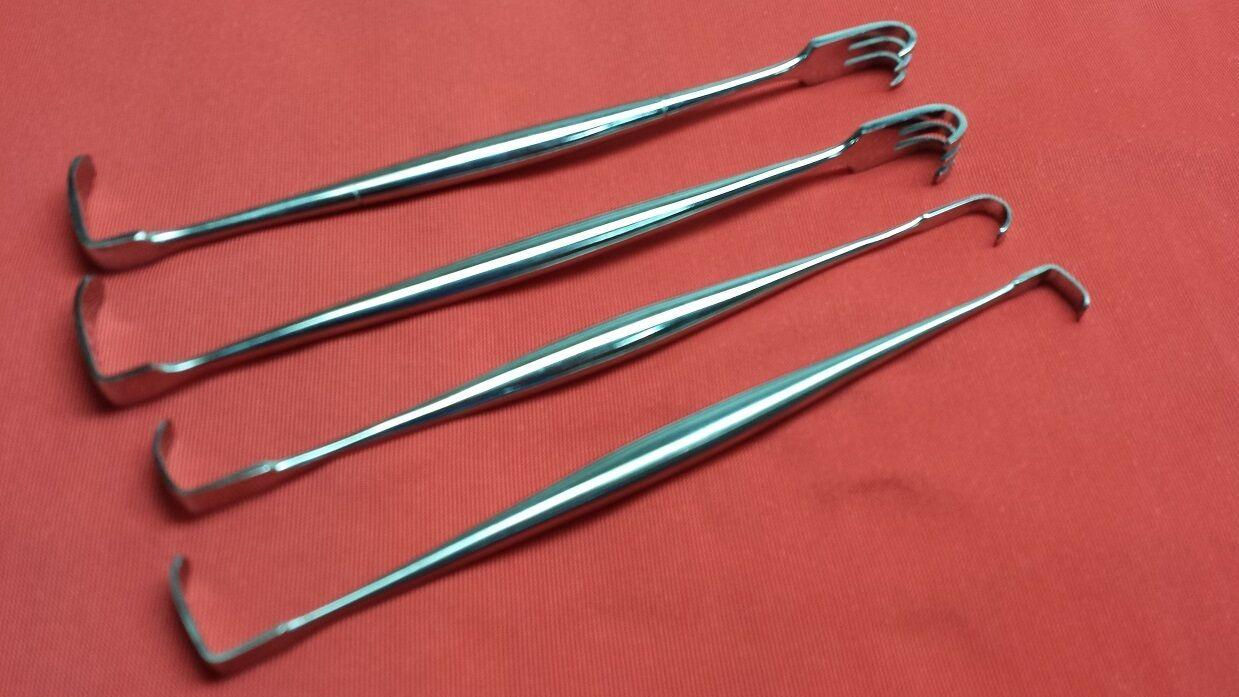Senn Retractor: (149, 250, 1097, 688), (146, 170, 1027, 528), (69, 87, 974, 411), (46, 9, 938, 272)
